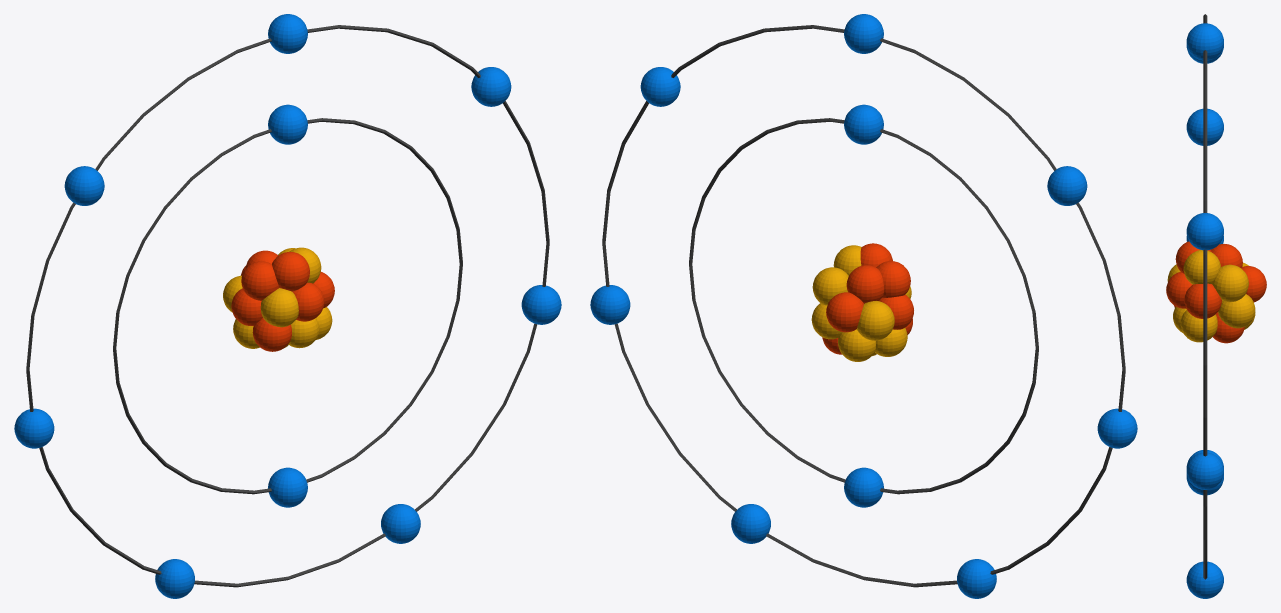
The picture shows the model from 3 angles, left to right: view 1: azimuth 30°, elevation 25°; view 2: azimuth 150°, elevation 25°; view 3: azimuth 270°, elevation 25°; orthographic projection. The views are drawn at different scales.
Parts seen in each view (by area): view 1: Orbit2, Orbit1, Electron.008, Electron.007, Electron, Electron.005, Electron.004, Electron.002, Electron.001, Electron.006, Electron.003, Neutron.005 (+6 smaller); view 2: Orbit2, Orbit1, Electron.008, Electron.007, Electron, Electron.005, Electron.004, Electron.002, Electron.001, Electron.006, Electron.003, Neutron.008 (+6 smaller); view 3: Orbit2, Electron.003, Electron.004, Electron.002, Electron.005, Neutron.001, Electron, Proton.004, Neutron.006, Neutron.009, Neutron, Proton.007 (+6 smaller).
Part boxes in pixels (x1,y1,x2,y2): Orbit2: (26, 25, 549, 587); Orbit1: (113, 118, 462, 494); Electron.008: (64, 166, 104, 205); Electron.007: (14, 408, 54, 448); Electron: (268, 104, 307, 144); Electron.005: (381, 504, 420, 543); Electron.004: (521, 285, 561, 324); Electron.002: (268, 14, 307, 53); Electron.001: (268, 467, 307, 507); Electron.006: (155, 559, 194, 598); Electron.003: (471, 67, 511, 106); Neutron.005: (260, 288, 298, 327); Orbit2: (602, 25, 1125, 587); Orbit1: (689, 118, 1038, 494); Electron.008: (1047, 166, 1087, 205); Electron.007: (1097, 408, 1137, 448); Electron: (844, 104, 883, 144); Electron.005: (731, 504, 770, 543); Electron.004: (590, 285, 630, 324); Electron.002: (844, 14, 883, 53); Electron.001: (844, 467, 883, 507); Electron.006: (957, 559, 996, 598); Electron.003: (640, 67, 680, 106); Neutron.008: (857, 301, 894, 340); Orbit2: (1203, 14, 1207, 579); Electron.003: (1186, 213, 1223, 250); Electron.004: (1186, 452, 1223, 489); Electron.002: (1186, 23, 1223, 60); Electron.005: (1186, 561, 1223, 598); Neutron.001: (1212, 264, 1248, 302); Electron: (1186, 108, 1223, 145); Proton.004: (1184, 283, 1221, 318); Neutron.006: (1183, 250, 1220, 284); Neutron.009: (1218, 294, 1255, 328); Neutron: (1180, 310, 1217, 342); Proton.007: (1166, 272, 1192, 308).
Size of the model in its own units: 312 by 311 by 53.54.
